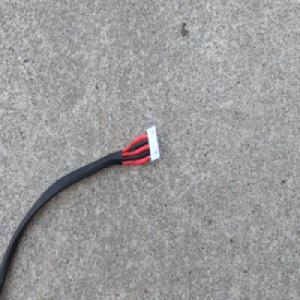Wire: (0, 124, 161, 295)
